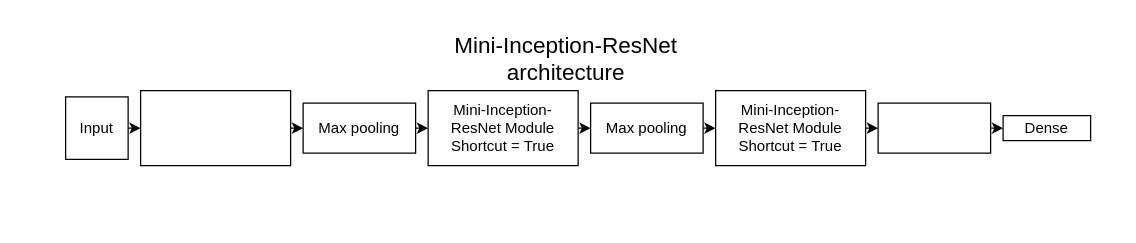
This 1136x243 diagram has some shape labels left out. Here are the shapes that lost their labels. From the top down, the centre of each, then its label:
At [215,127]: "Mini-Inception-ResNet Module Shortcut = False".
At [934,127]: "Average pooling".
